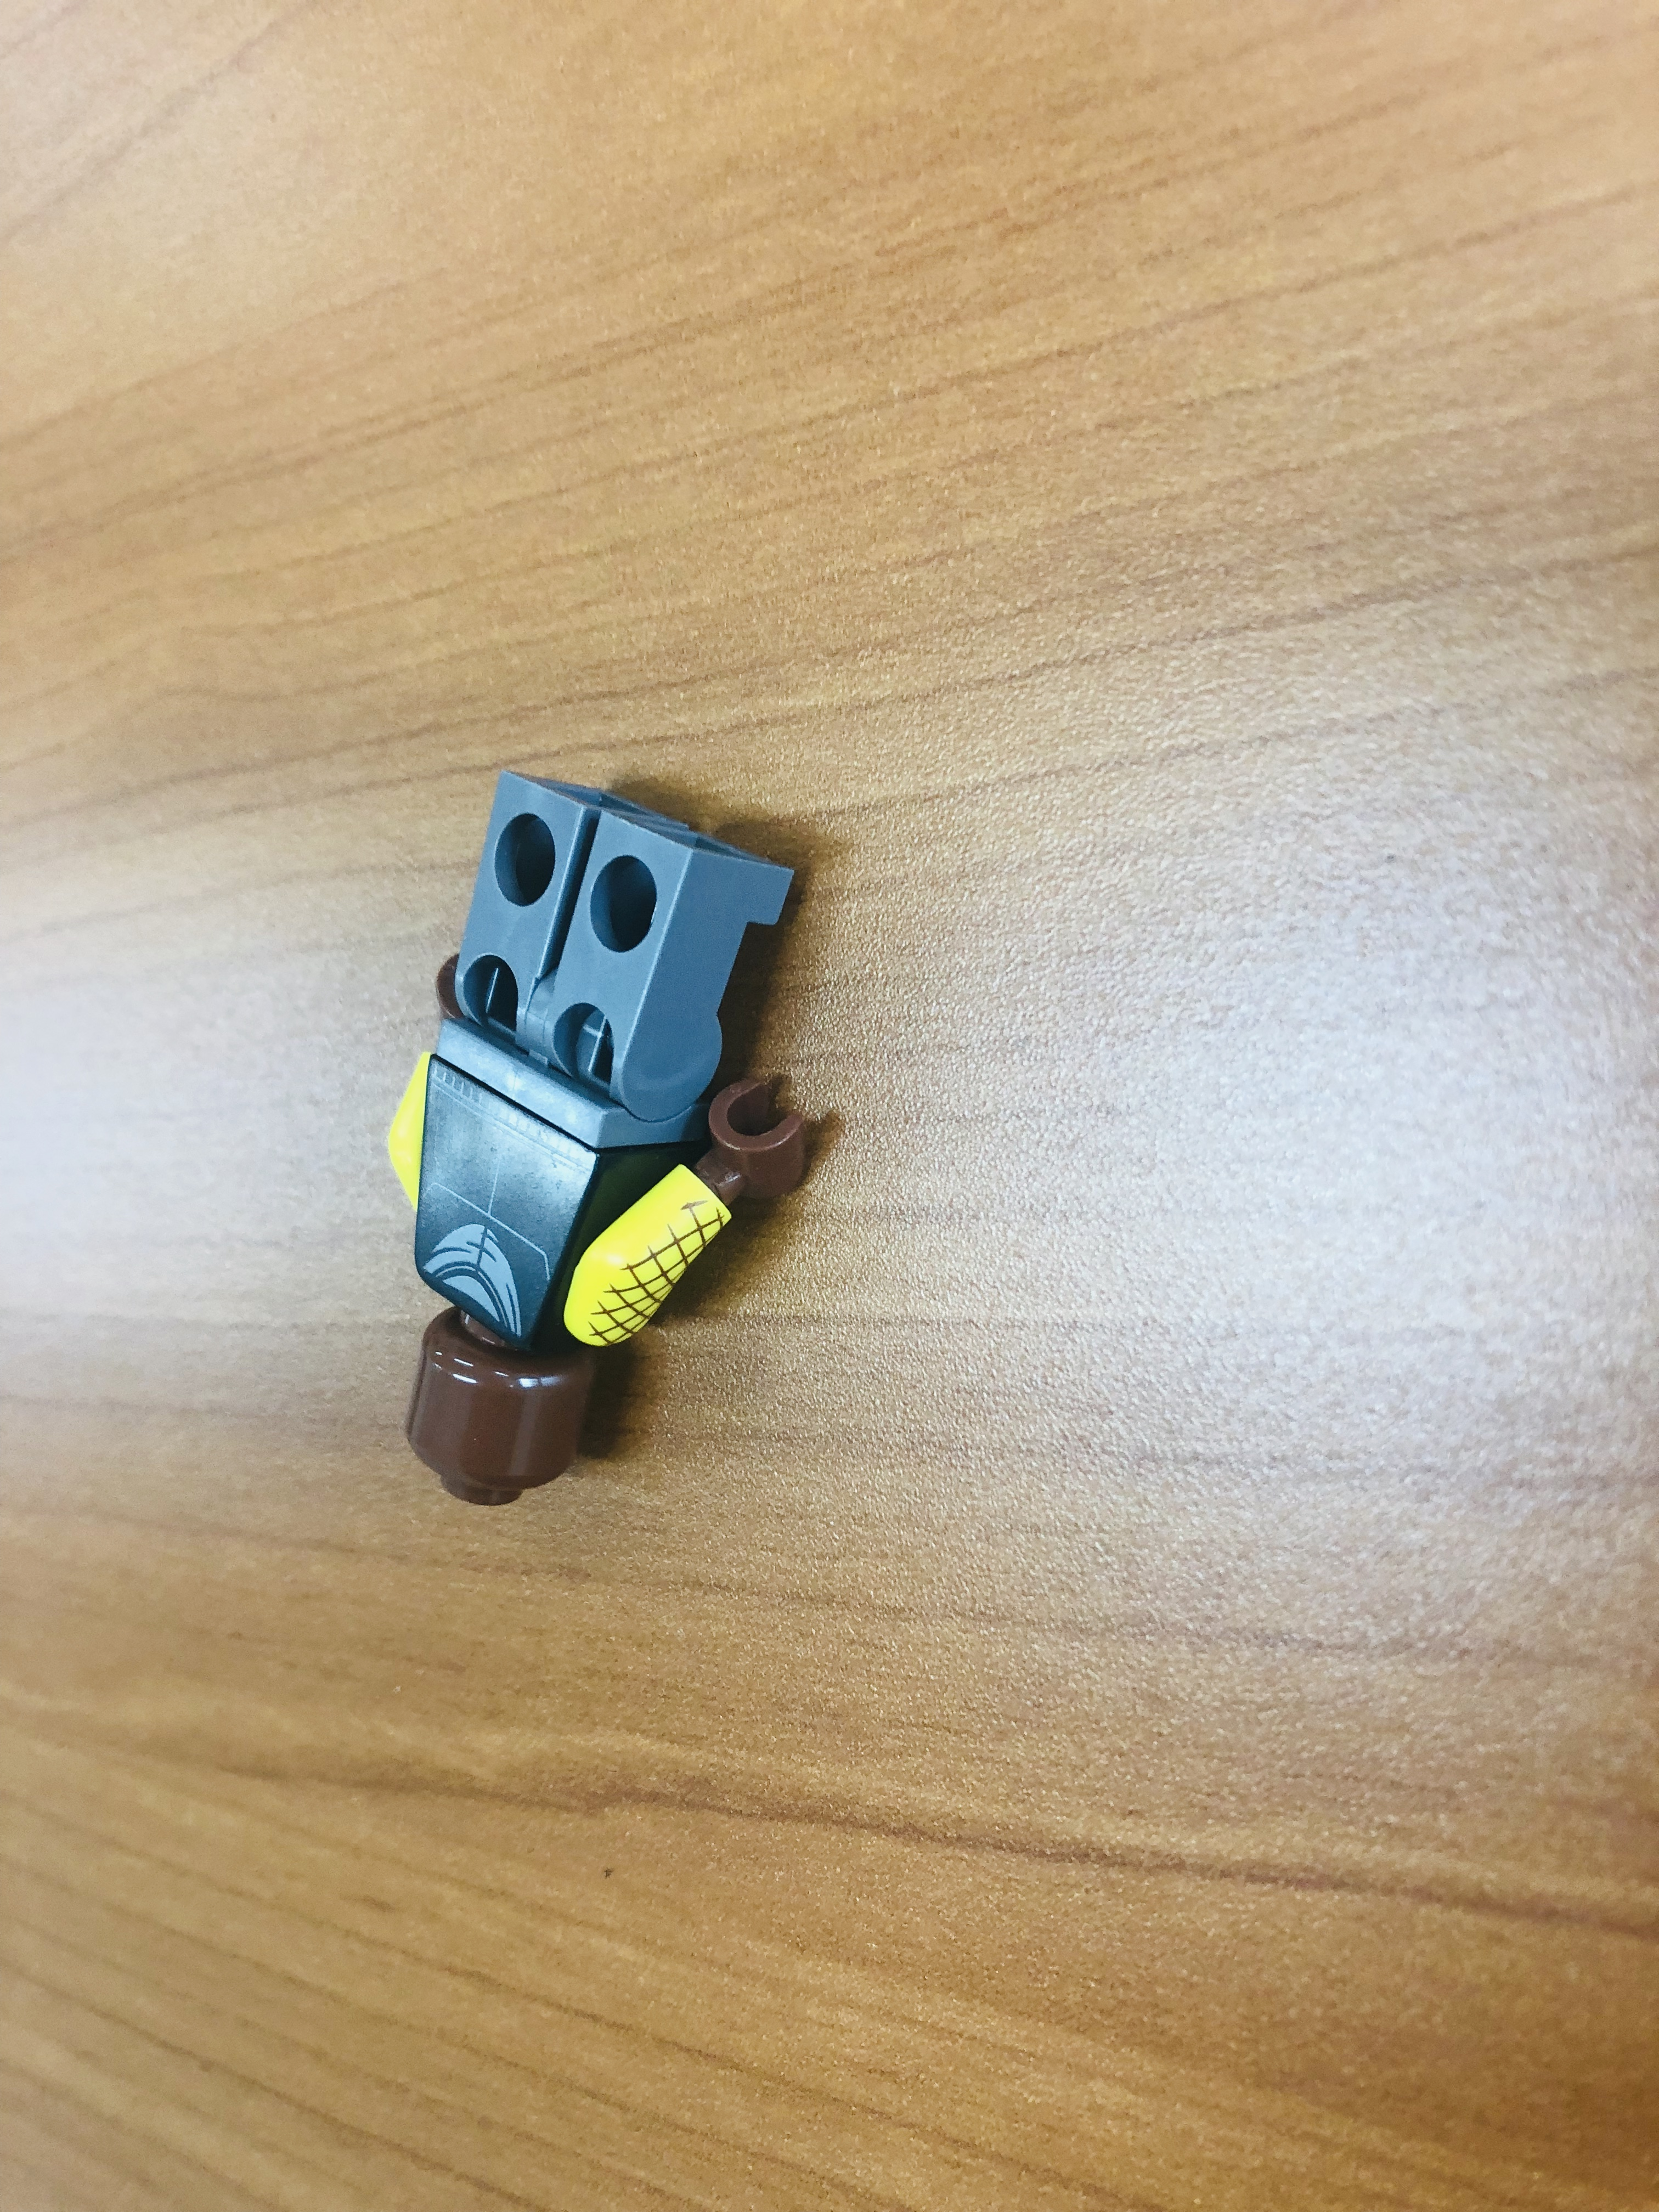people: (381, 765, 828, 1509)
